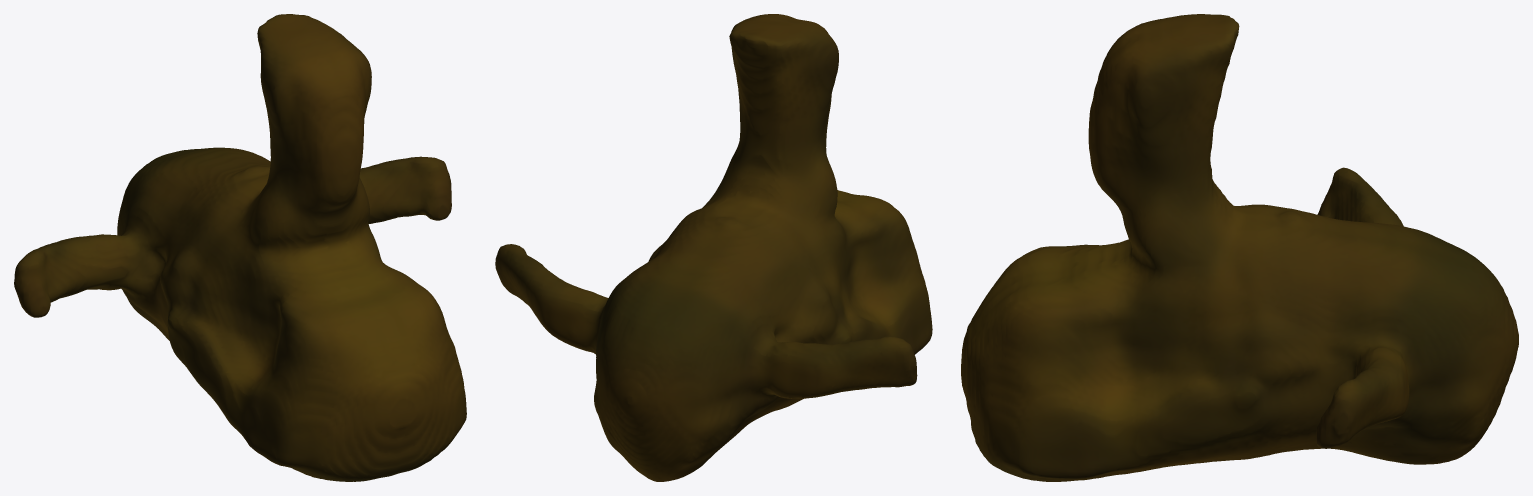
3 renders of one model, left to right at view 1: azimuth 30°, elevation 25°; view 2: azimuth 150°, elevation 25°; view 3: azimuth 270°, elevation 25°, orthographic. The views are drawn at different scales.
Visible parts, largest first — view 1: plyFile; view 2: plyFile; view 3: plyFile.
Part boxes in pixels (x1,y1,x2,y2): plyFile: (14, 14, 466, 481); plyFile: (495, 14, 932, 481); plyFile: (961, 14, 1518, 481).
Bounding box in the file's own units: 197 × 170 × 197.
